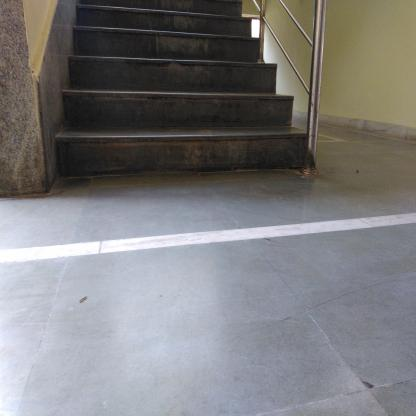stairs: (76, 2, 251, 180)
